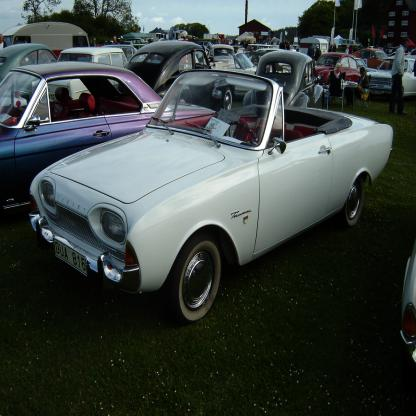Car: (0, 33, 416, 323)
